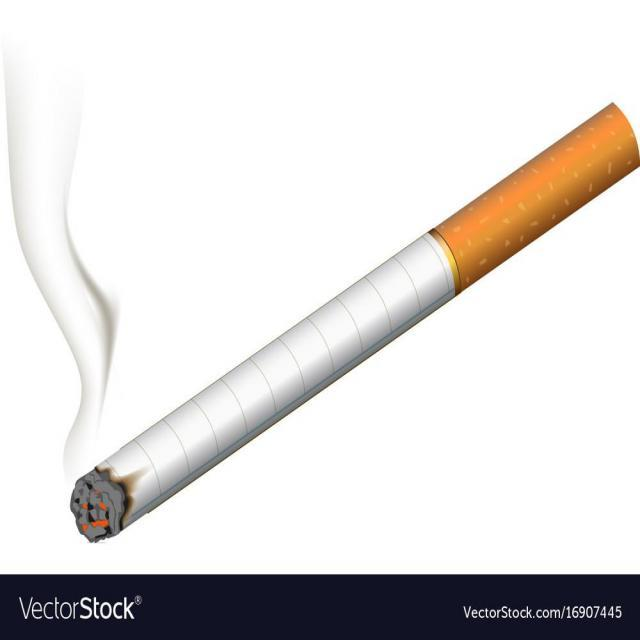cigarette: (63, 94, 640, 542)
